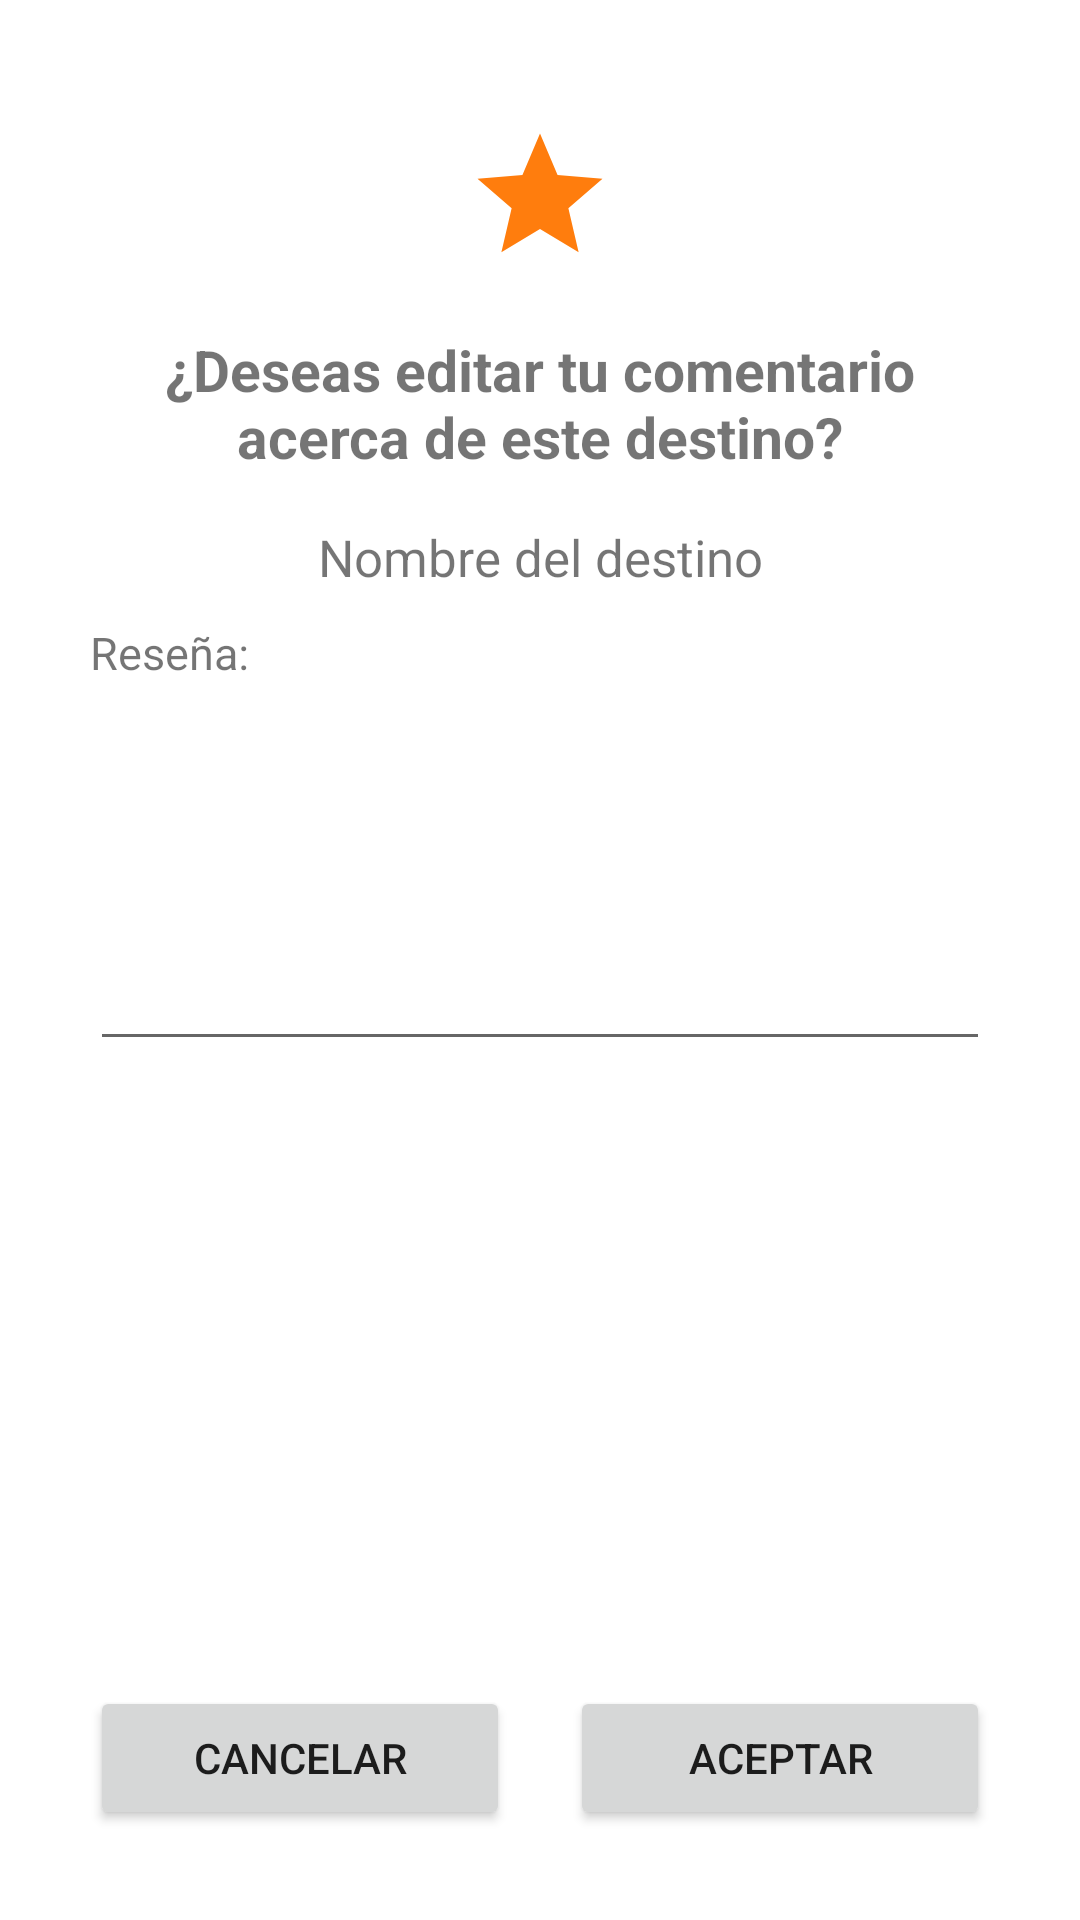

Where icons sit on this 1080px×1920px app screen, as {"x1": x1, "y1": y1, "x2": x2, "y2": y2}:
star: {"x1": 478, "y1": 134, "x2": 602, "y2": 252}
